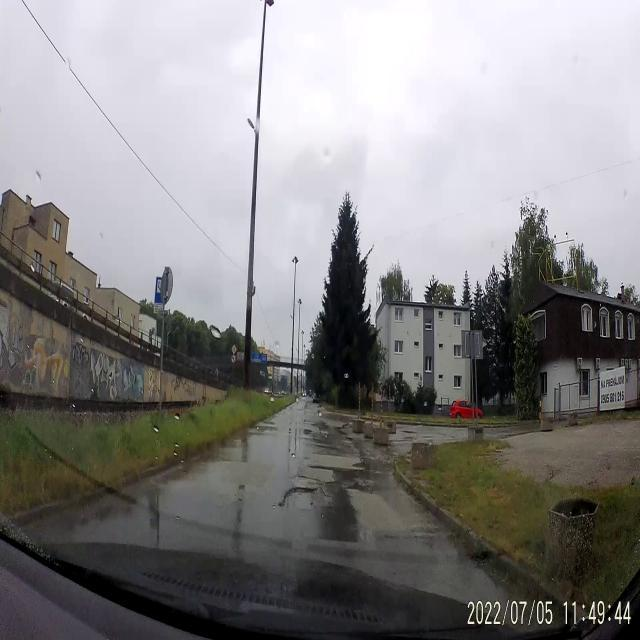Pothole: (280, 479, 332, 524), (306, 459, 336, 479), (401, 422, 418, 446), (234, 482, 248, 503), (341, 433, 356, 445)
